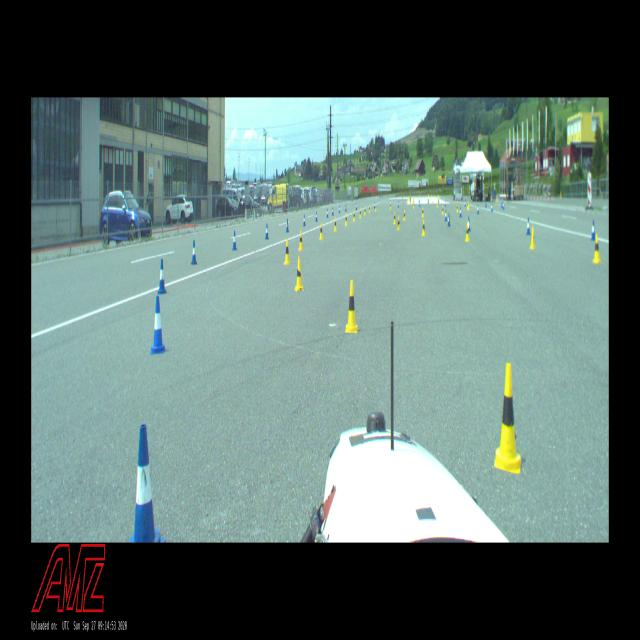blue_cone: (129, 424, 166, 543), (150, 296, 166, 353), (158, 258, 166, 294), (191, 240, 197, 264), (232, 230, 237, 250), (591, 220, 595, 240), (526, 217, 530, 234), (265, 223, 269, 240), (286, 218, 290, 232), (303, 214, 306, 226), (459, 207, 462, 217), (468, 216, 470, 231), (338, 205, 341, 214), (448, 214, 450, 226), (445, 210, 447, 222), (316, 211, 318, 222), (326, 208, 328, 218), (491, 203, 493, 212), (332, 207, 334, 216), (477, 205, 479, 214), (502, 202, 504, 210), (397, 201, 399, 207), (345, 204, 346, 211), (356, 203, 357, 210), (374, 202, 375, 208)
yellow_cone: (494, 363, 522, 474), (346, 280, 358, 332), (295, 256, 303, 291), (593, 234, 601, 263), (284, 240, 290, 264), (530, 226, 536, 249), (465, 222, 470, 241), (299, 230, 303, 250), (320, 223, 324, 239), (422, 220, 425, 236), (334, 217, 337, 232), (397, 216, 400, 230), (345, 213, 348, 225), (403, 210, 406, 220), (368, 205, 371, 214), (394, 212, 396, 224), (422, 207, 424, 217), (353, 211, 355, 221), (359, 208, 361, 218), (456, 204, 458, 213), (364, 207, 366, 216), (442, 206, 444, 214), (375, 204, 377, 211), (390, 202, 391, 210)
